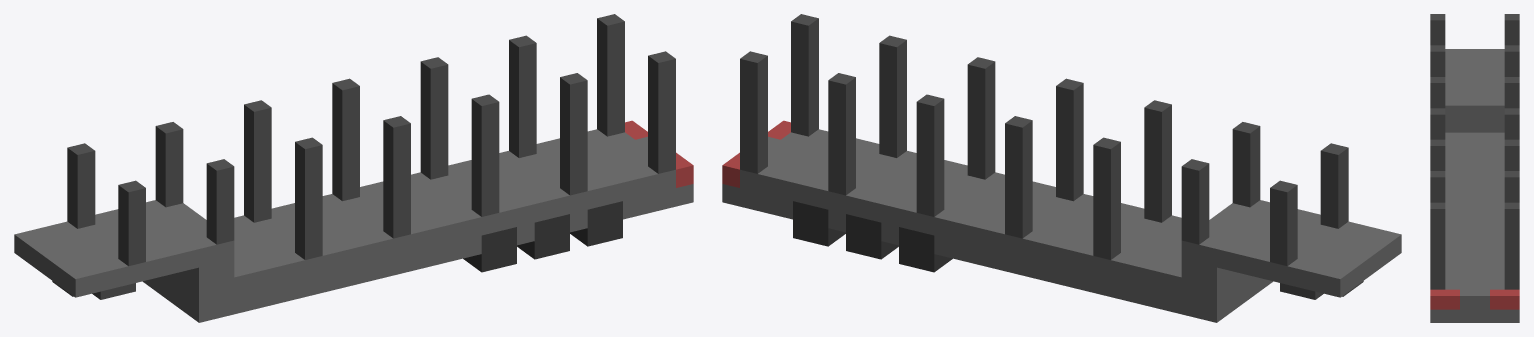
The model's file is semitrailer-v3-grey.gltf.
3 renders of one model, left to right at view 1: azimuth 30°, elevation 25°; view 2: azimuth 150°, elevation 25°; view 3: azimuth 270°, elevation 25°, orthographic. The views are drawn at different scales.
Visible parts, largest first — view 1: model, wheels; view 2: model, wheels; view 3: model.
Boxes of the visible parts, box(x1,y1,x2,y2) form: model: box(14, 14, 693, 322); wheels: box(463, 201, 622, 272); model: box(722, 14, 1401, 322); wheels: box(793, 201, 952, 272); model: box(1430, 14, 1519, 322).
Size of the model in its own units: 3.5 by 0.9 by 0.6.
2 materials, 2 textured.
